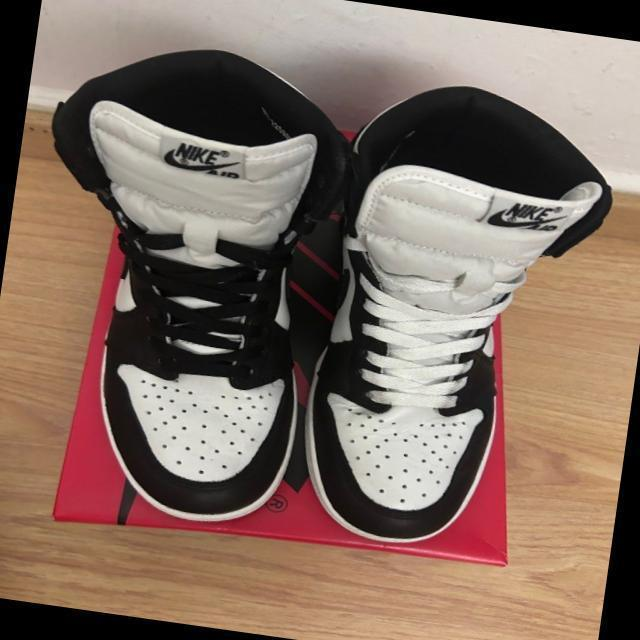nike original jordan 1: (0, 30, 352, 535), (284, 69, 626, 568)
